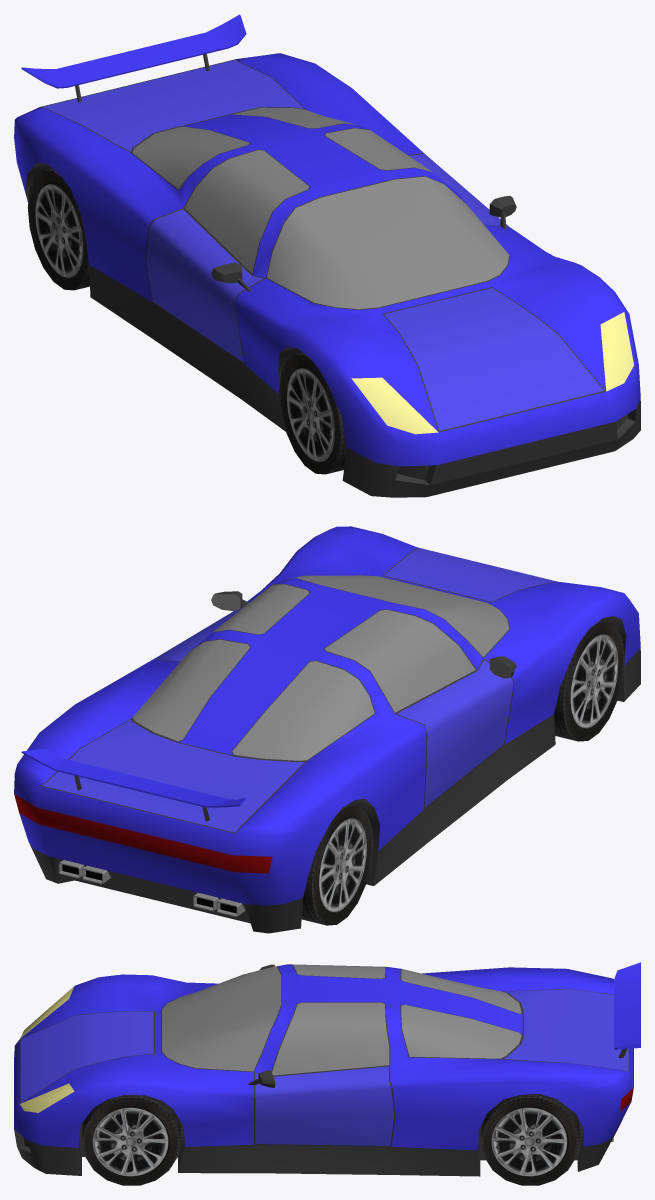
File: car_15.FBX
3 views of the same model, one above another, from view 1: azimuth 30°, elevation 25°; view 2: azimuth 150°, elevation 25°; view 3: azimuth 270°, elevation 25° (orthographic). The views are drawn at different scales.
Parts seen in each view (by area): view 1: Object002, Cylinder008, Cylinder005; view 2: Object002, Cylinder005, Cylinder008; view 3: Object002, Cylinder007, Cylinder006.
Boxes of the visible parts, left/top/right/bottom form: Object002: left=14, top=14, right=640, bottom=497; Cylinder008: left=279, top=352, right=346, bottom=474; Cylinder005: left=27, top=168, right=89, bottom=290; Object002: left=14, top=526, right=640, bottom=933; Cylinder005: left=301, top=803, right=373, bottom=925; Cylinder008: left=554, top=619, right=624, bottom=741; Object002: left=14, top=962, right=640, bottom=1176; Cylinder007: left=481, top=1094, right=579, bottom=1185; Cylinder006: left=82, top=1095, right=180, bottom=1185.
Size of the model in its own units: 2.14 by 1.22 by 4.88.
